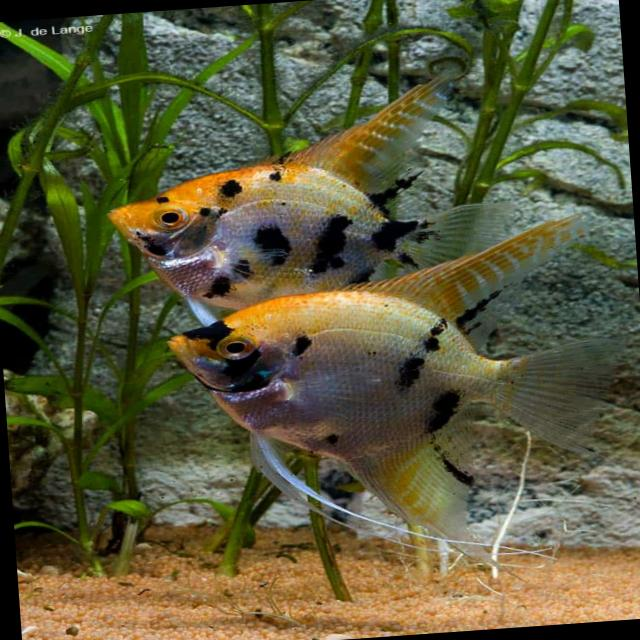AngelFish: (160, 209, 627, 591), (96, 68, 523, 316)
